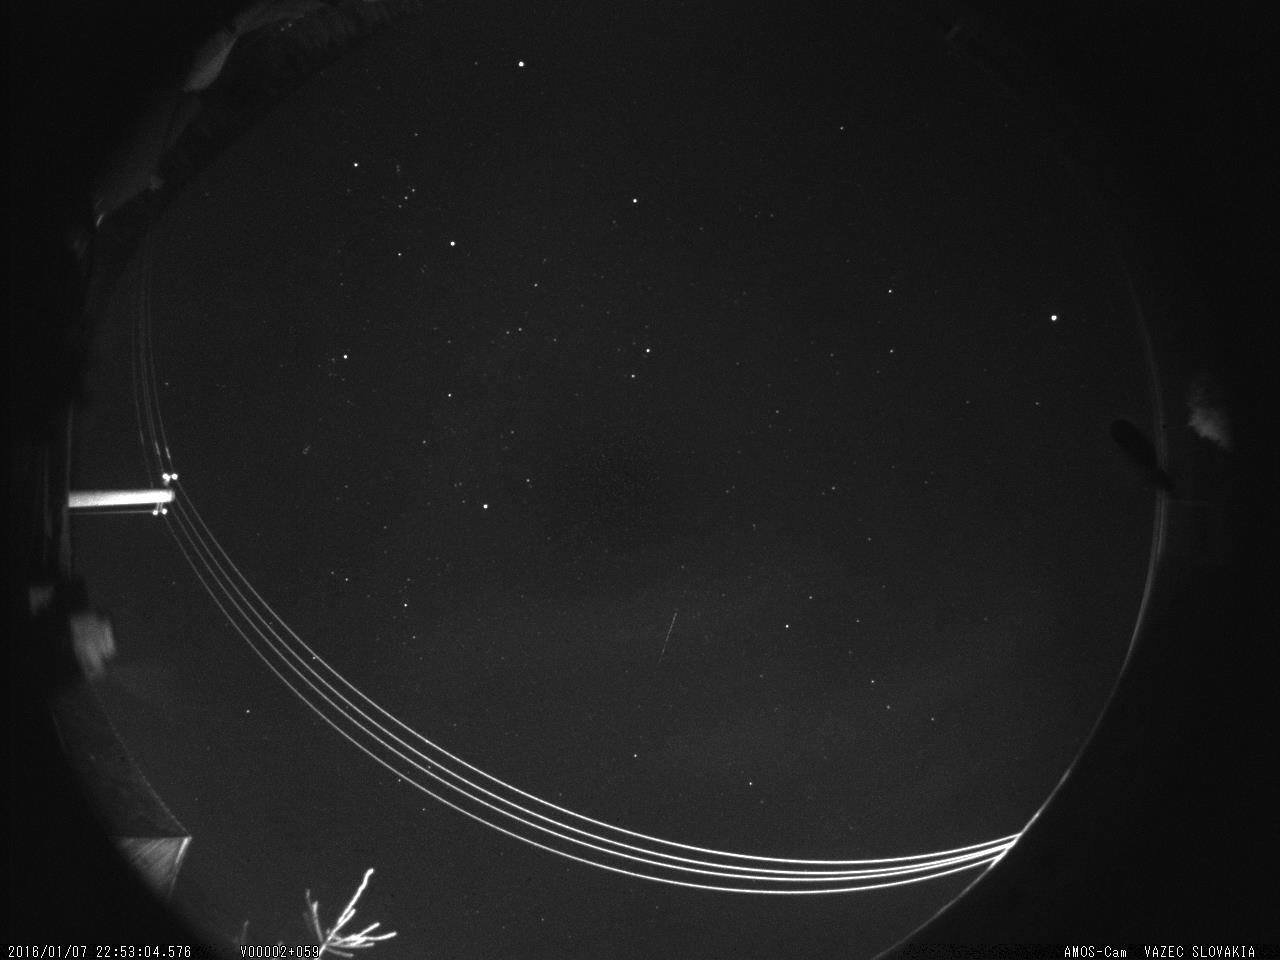meteor: (650, 591, 687, 691)
